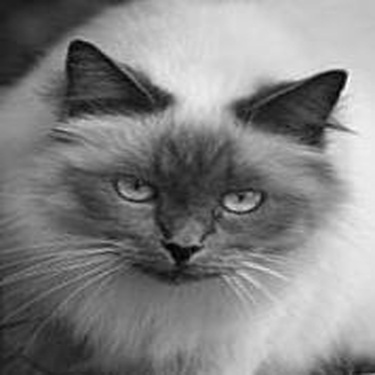cat: (40, 32, 351, 363)
